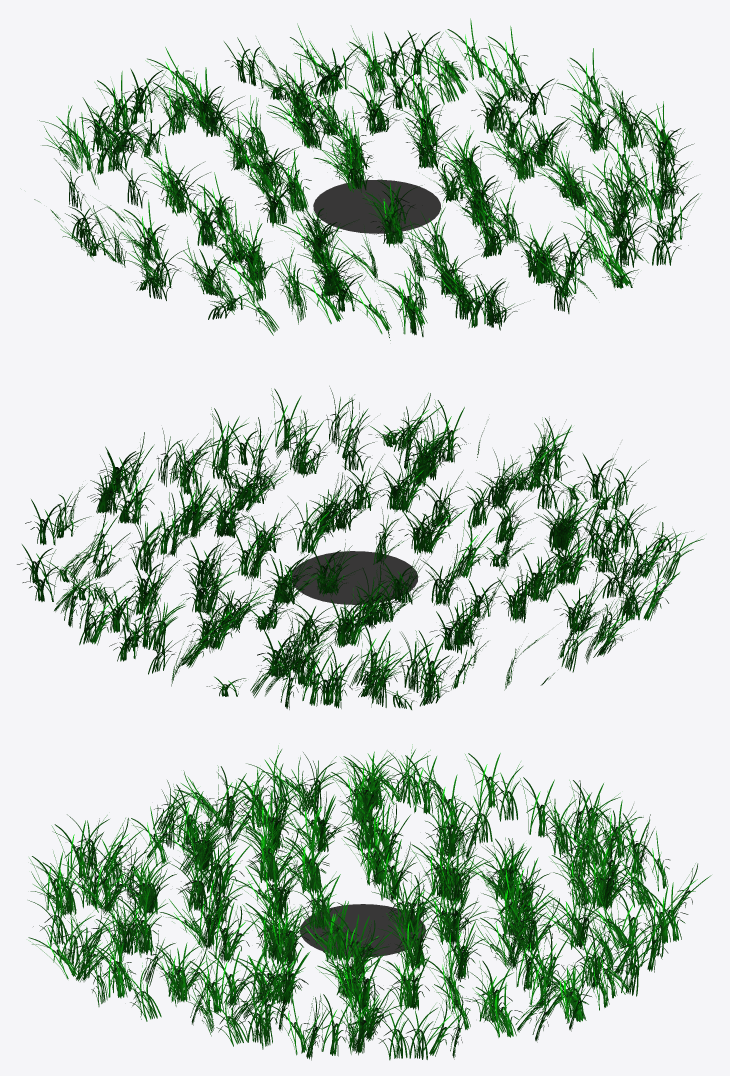
The model's file is medGrass5M.dae.
The picture shows the model from 3 angles, top to bottom: view 1: azimuth 30°, elevation 25°; view 2: azimuth 150°, elevation 25°; view 3: azimuth 270°, elevation 25°; orthographic projection.
Visible parts, largest first — view 1: 1M; view 2: 1M; view 3: 1M, Plane.091, Plane.164, Plane.353, Plane.203, Plane.192, Plane.188, Plane.425, Plane.246, Plane.397, Plane.134, Plane.286 (+9 smaller).
Part boxes in pixels (x1,y1,x2,y2): 1M: [313, 179, 440, 233]; 1M: [292, 551, 418, 604]; 1M: [300, 904, 425, 956]; Plane.091: [401, 755, 443, 814]; Plane.164: [479, 762, 522, 821]; Plane.353: [367, 1000, 411, 1060]; Plane.203: [394, 1004, 438, 1059]; Plane.192: [152, 942, 199, 1002]; Plane.188: [520, 777, 559, 837]; Plane.425: [229, 986, 274, 1043]; Plane.246: [465, 753, 507, 808]; Plane.397: [472, 982, 522, 1037]; Plane.134: [37, 855, 81, 915]; Plane.286: [615, 938, 657, 996].
Bounding box in the file's own units: 10.7 × 11.11 × 0.942.
Materials: 2 (1 with a texture image).
